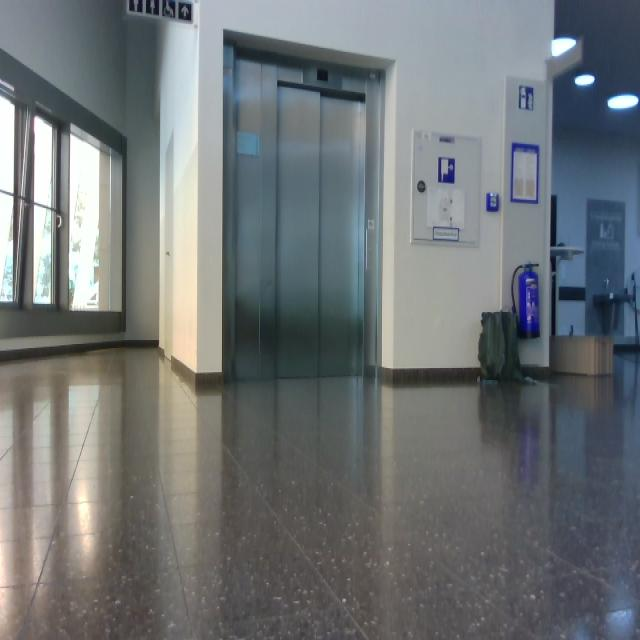door: (223, 43, 386, 383), (275, 80, 366, 378)
fire extinguisher: (511, 262, 540, 340)
light bulb: (607, 93, 639, 110), (551, 37, 577, 57), (574, 73, 595, 88)
tiled floor: (2, 343, 639, 639)
